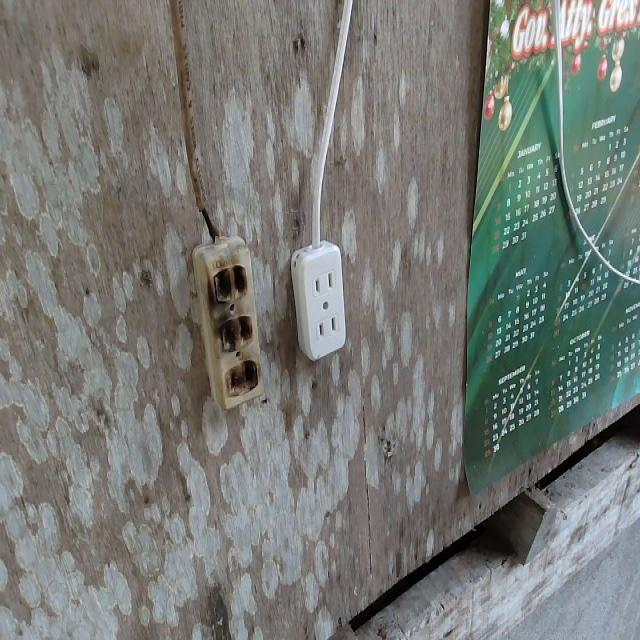-: (203, 259, 258, 396)
